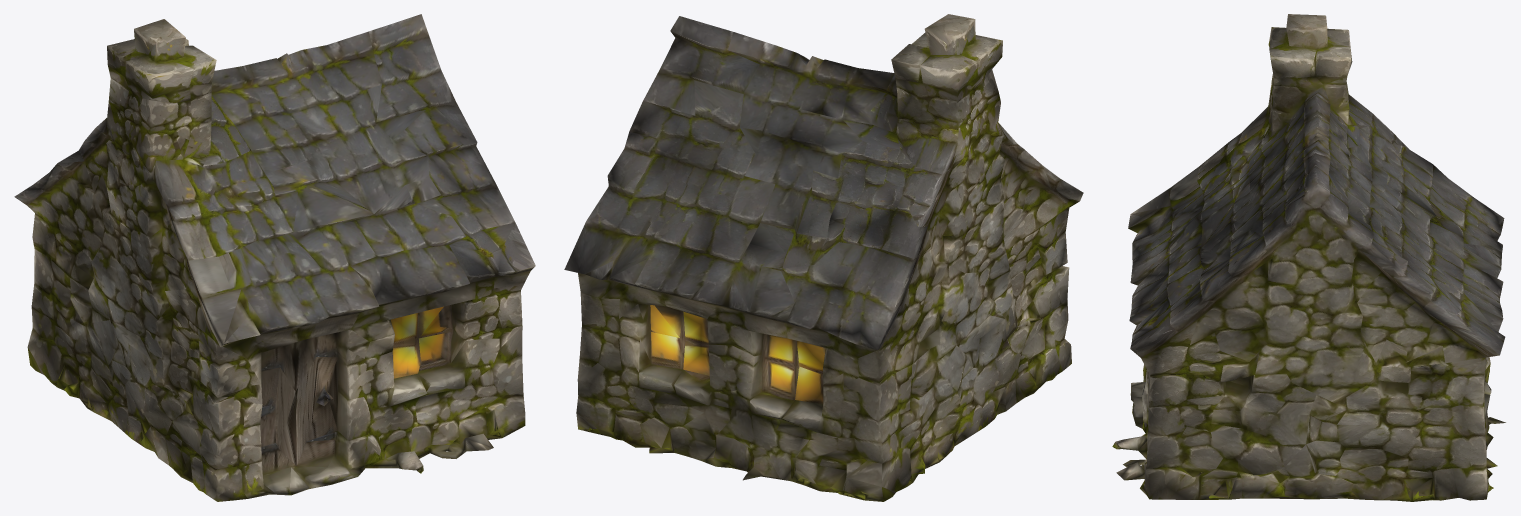
Rendered from land_dovecote_far.obj.
The picture shows the model from 3 angles, left to right: view 1: azimuth 30°, elevation 25°; view 2: azimuth 150°, elevation 25°; view 3: azimuth 270°, elevation 25°; orthographic projection. The views are drawn at different scales.
Parts seen in each view (by area): view 1: land_dovecote_far; view 2: land_dovecote_far; view 3: land_dovecote_far.
Boxes of the visible parts, x1,y1,x2,y2 form: land_dovecote_far: (14, 14, 535, 501); land_dovecote_far: (564, 14, 1083, 501); land_dovecote_far: (1112, 14, 1505, 501).
Size of the model in its own units: 5.34 by 6.49 by 6.42.
1 material, 1 textured.
